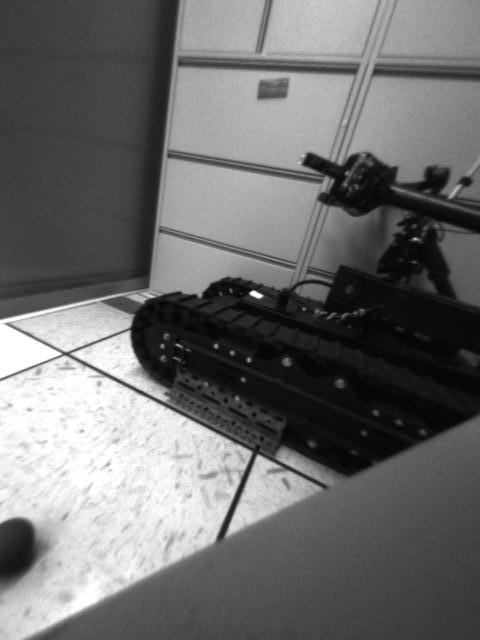dogtoy: (1, 504, 45, 592)
